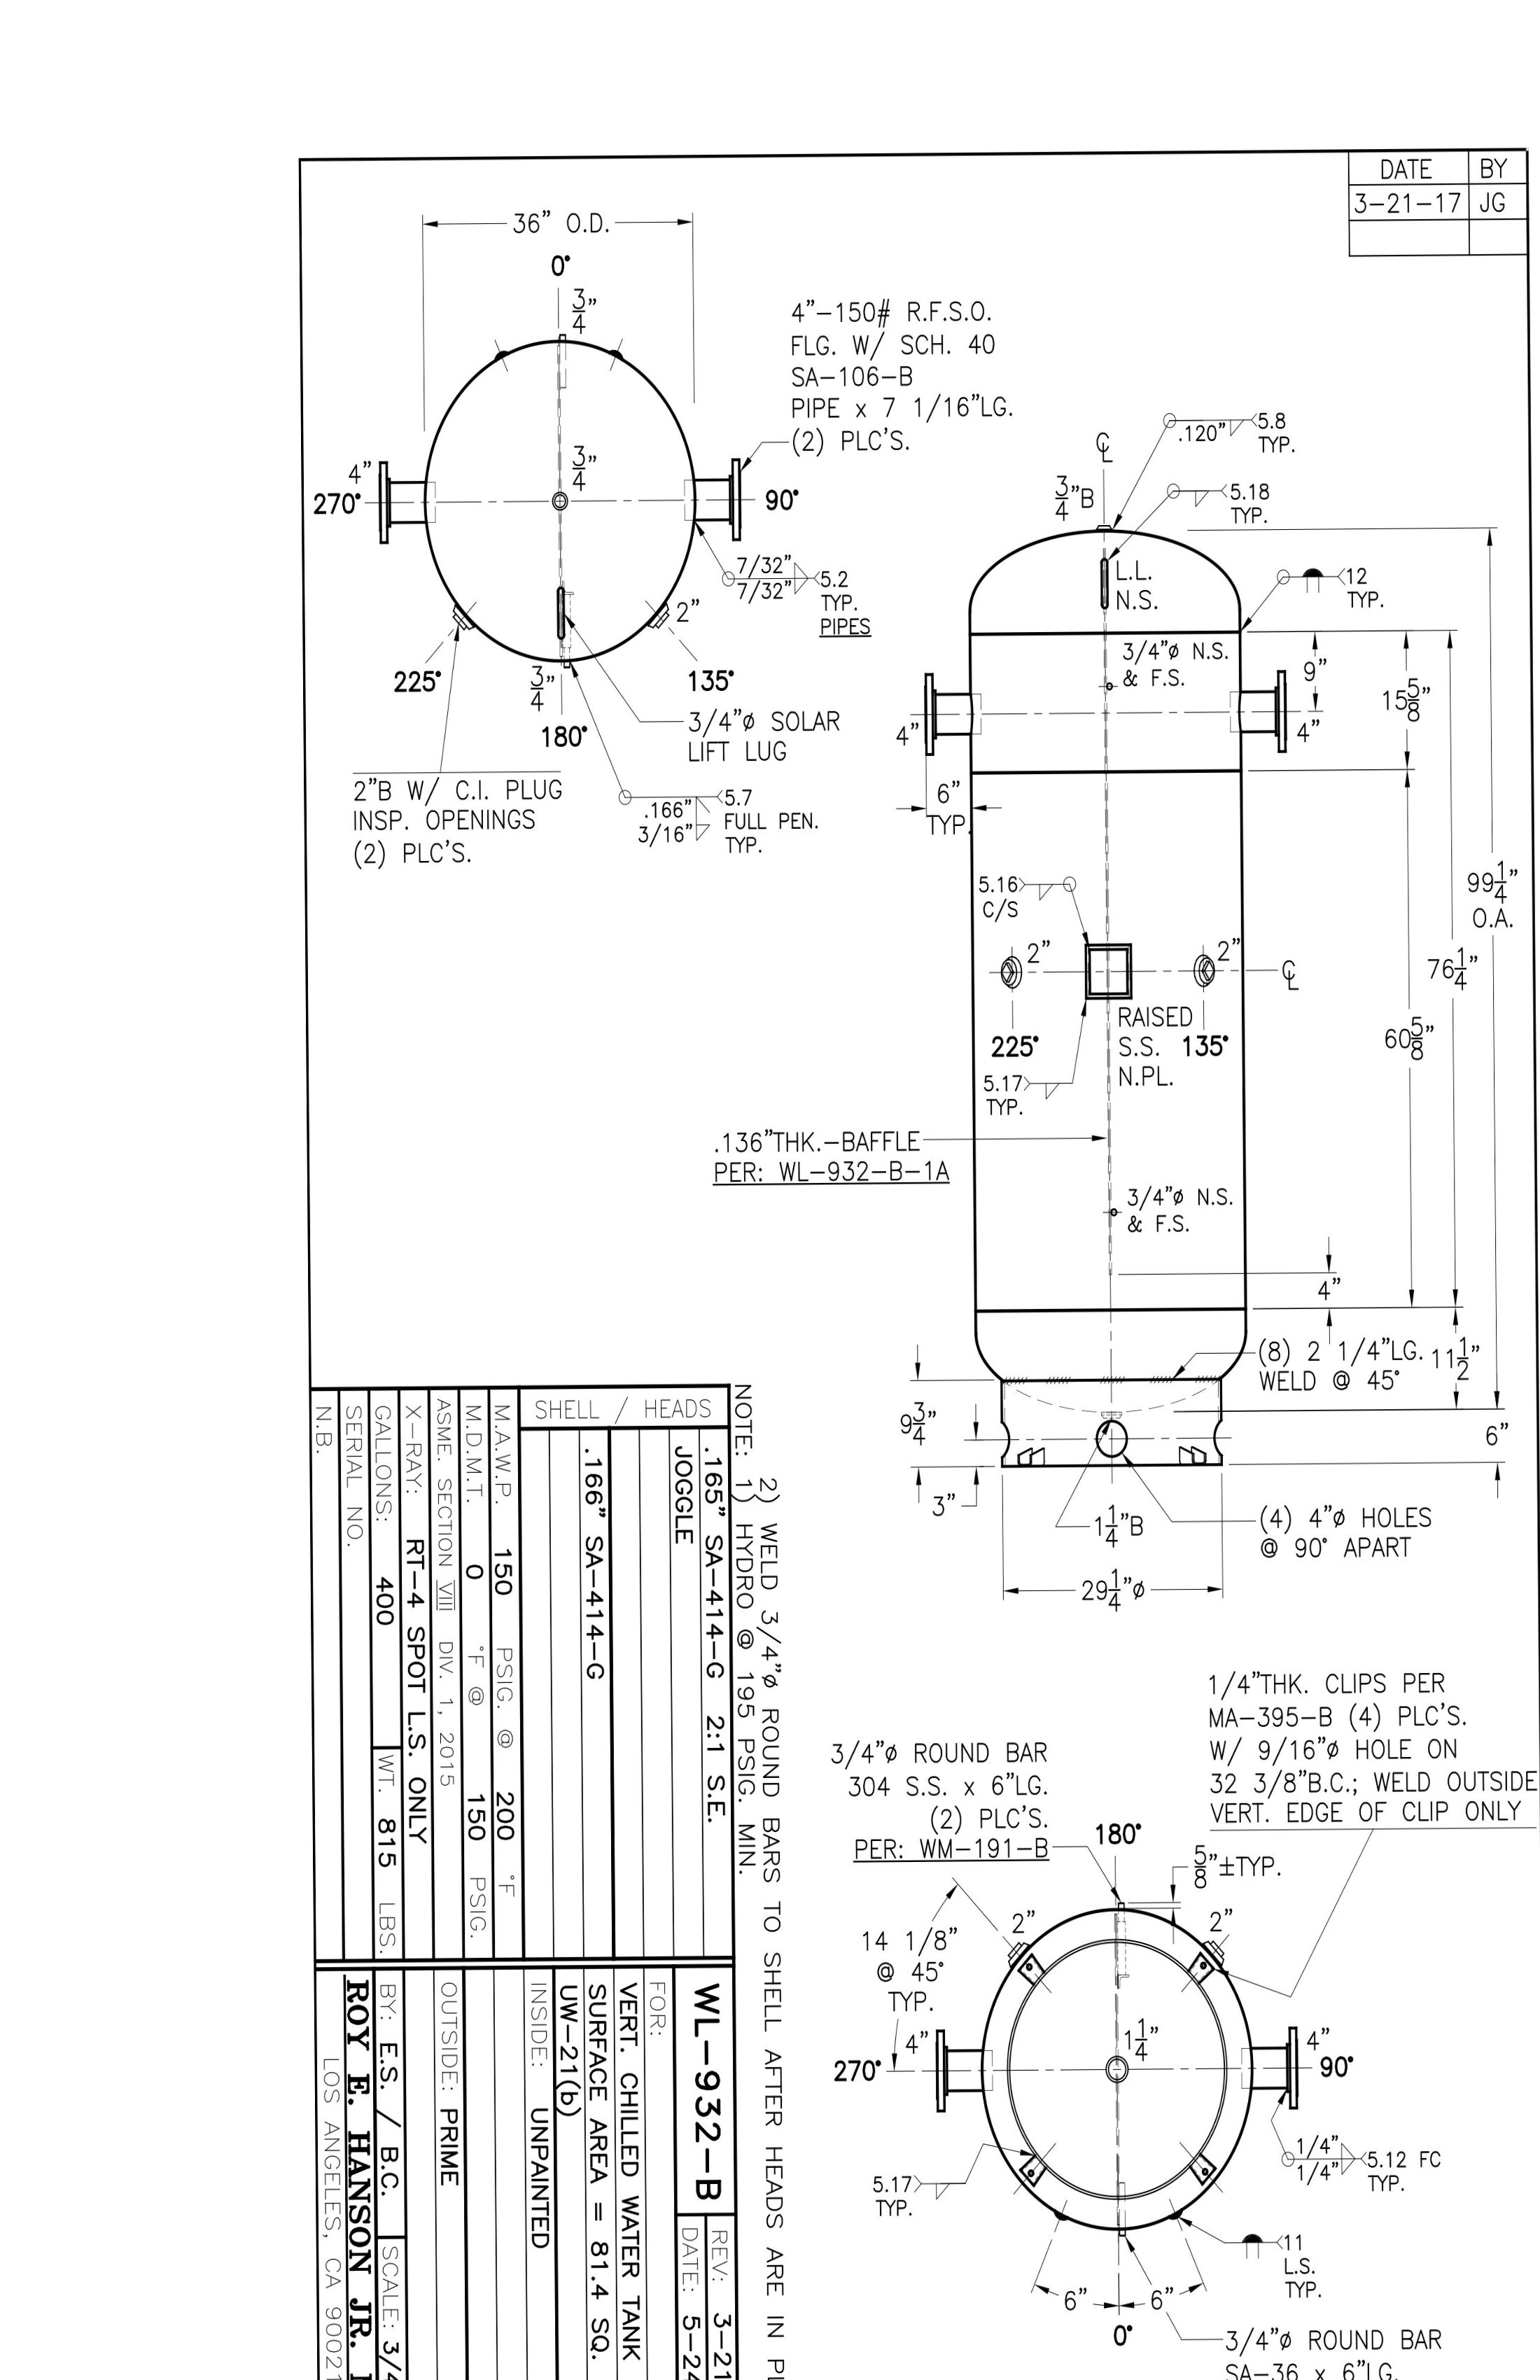Nozzle: (333, 416, 470, 578), (886, 1979, 1039, 2123), (883, 630, 999, 762), (1219, 2016, 1347, 2127), (661, 437, 767, 566), (1231, 642, 1323, 786)
